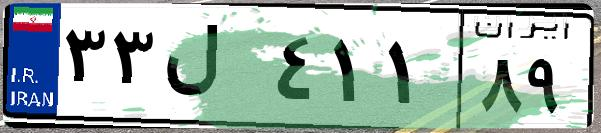1: (385, 28, 445, 110), (330, 28, 385, 110)
3: (57, 26, 110, 100), (110, 28, 158, 98)
4: (270, 28, 330, 110)
8: (475, 38, 525, 113)
9: (525, 38, 570, 115)
ل: (158, 20, 270, 120)
